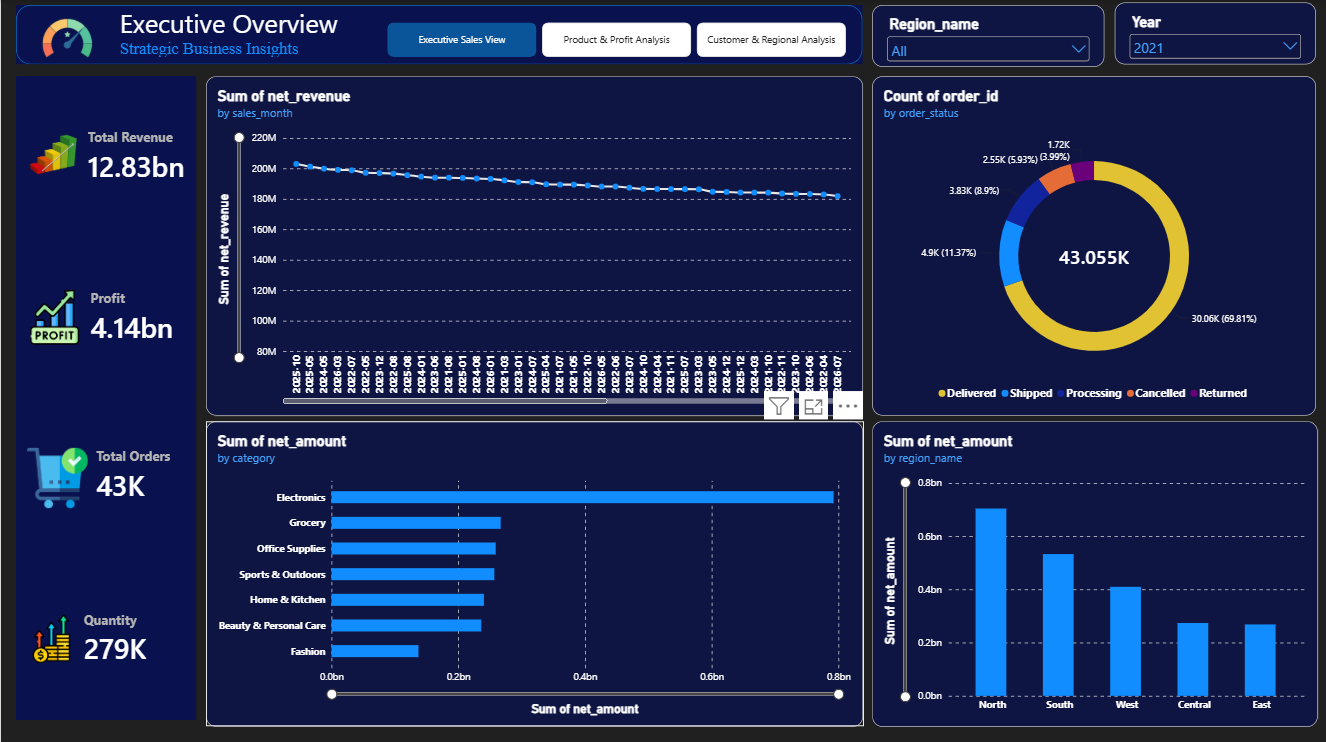

This screenshot's page, from the dashboard's own definition file:
{"tool":"powerbi","page":{"name":"Executive Sales View","canvas":[1920,1080],"ordinal":0},"visuals":[{"type":"lineChart","fields":{"Category":["gold_monthly_sales.sales_month"],"Y":["Sum(gold_monthly_sales.net_revenue)"]},"box":[297,110.2,950.8,491.3],"z":0},{"type":"clusteredBarChart","fields":{"Category":["gold_sales.category"],"Y":["Sum(gold_sales.net_amount)"]},"box":[297,609,950.8,442.7],"z":1000},{"type":"columnChart","fields":{"Category":["gold_sales.region_name"],"Y":["Sum(gold_sales.net_amount)"]},"box":[1260.9,609,644.5,442.7],"z":2000},{"type":"donutChart","fields":{"Category":["gold_sales.order_status"],"Y":["CountNonNull(gold_sales.order_id)"]},"box":[1260.9,110.2,642.6,491.3],"z":3000},{"type":"slicer","fields":{"Values":["gold_sales.region_name"]},"box":[1260.9,7.5,336.3,89.7],"z":4000},{"type":"slicer","fields":{"Values":["gold_sales.order_date.Variation.Date Hierarchy.Year"]},"box":[1612.1,3.7,291.4,89.7],"z":5000},{"type":"cardVisual","fields":{"Data":["gold_sales.Revenue Test","Sum(gold_profit_analysis.estimated_profit)","gold_sales.Total Orders","Sum(gold_sales.quantity)"]},"box":[22.4,110.2,261.5,934],"z":6000},{"type":"shape","box":[22.4,7.5,1225.5,85.9],"z":7000},{"type":"textbox","box":[171.9,7.5,343.7,69.1],"z":8000},{"type":"image","box":[37.4,0,115.8,110.2],"z":9000},{"type":"textbox","box":[171.9,56,278.3,100.9],"z":10000},{"type":"pageNavigator","box":[558.6,31.8,665,50.4],"z":11000}]}

Visuals, with their boxes in screenshot pixels (x1, y1, x2, y2), scaled from the page's 1920x1080 canvas onto the 1326x742 screenshot:
lineChart - gold_monthly_sales.sales_month x Sum(gold_monthly_sales.net_revenue): (left=205, top=76, right=862, bottom=413)
clusteredBarChart - gold_sales.category x Sum(gold_sales.net_amount): (left=205, top=418, right=862, bottom=723)
columnChart - gold_sales.region_name x Sum(gold_sales.net_amount): (left=871, top=418, right=1316, bottom=723)
donutChart - gold_sales.order_status x CountNonNull(gold_sales.order_id): (left=871, top=76, right=1315, bottom=413)
slicer - gold_sales.region_name: (left=871, top=5, right=1103, bottom=67)
slicer - gold_sales.order_date.Variation.Date Hierarchy.Year: (left=1113, top=3, right=1315, bottom=64)
cardVisual - gold_sales.Revenue Test x Sum(gold_profit_analysis.estimated_profit): (left=15, top=76, right=196, bottom=717)
shape: (left=15, top=5, right=862, bottom=64)
textbox: (left=119, top=5, right=356, bottom=53)
image: (left=26, top=0, right=106, bottom=76)
textbox: (left=119, top=38, right=311, bottom=108)
pageNavigator: (left=386, top=22, right=845, bottom=56)
